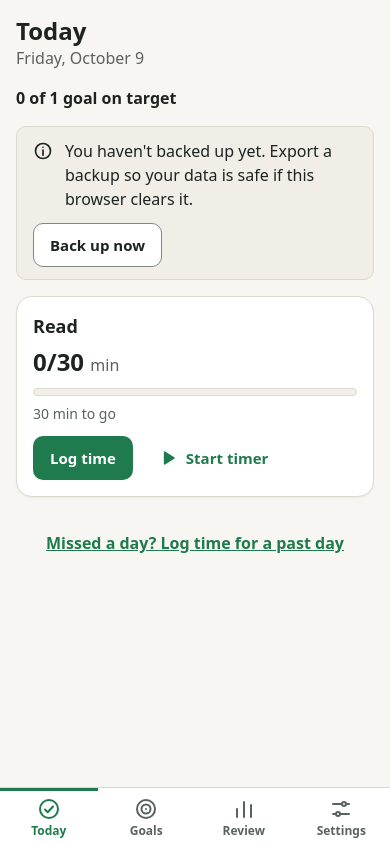
Today — M5-AC13 (entry order, pendingTimer), M3-D4, M5-AC6 › M3-D4: a service-level TIMER_NOT_RUNNING (fake) closes the dialog too; field errors keep it open
Click the button "Start timer".
click(213, 458)  # box [141,436,285,480]
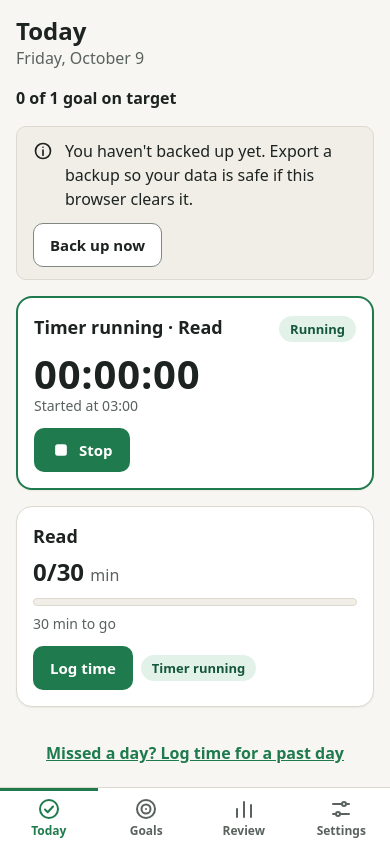
Result: the element with test id "timer-card" is shown at [16,296,374,490]
Click the button with aria-label "Stop timer for Read".
click(82, 450)  # box [34,428,130,472]
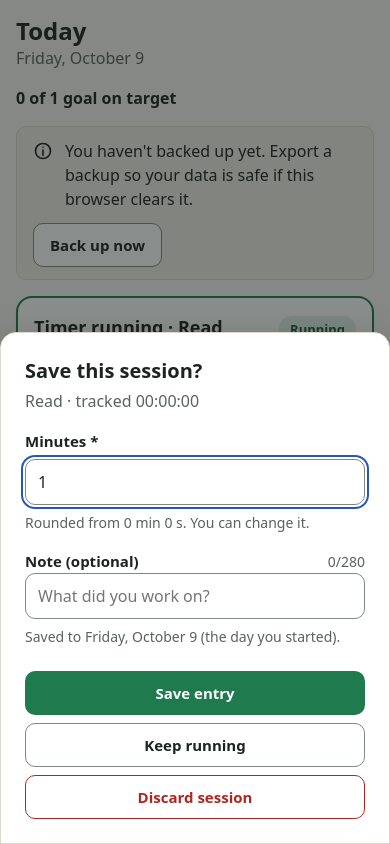
Replace the text in the field labelled "Minutes *" with "0" at (195, 482), box [25,459,365,505]
Click the button "Save entry".
click(195, 693)  # box [25,671,365,715]
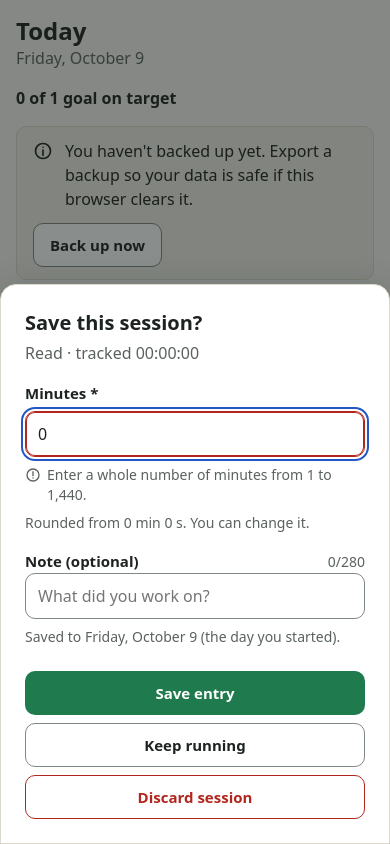
Result: the text "Enter a whole number of minutes from 1 to 1,440." is shown at [47,465,365,505]
Replace the text in the field labelled "Minutes *" with "10" at (195, 434), box [25,411,365,457]
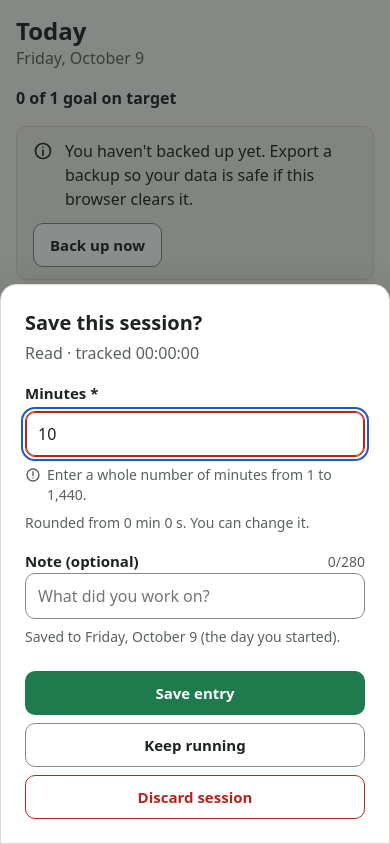
Click the button "Save entry".
click(195, 693)  # box [25,671,365,715]
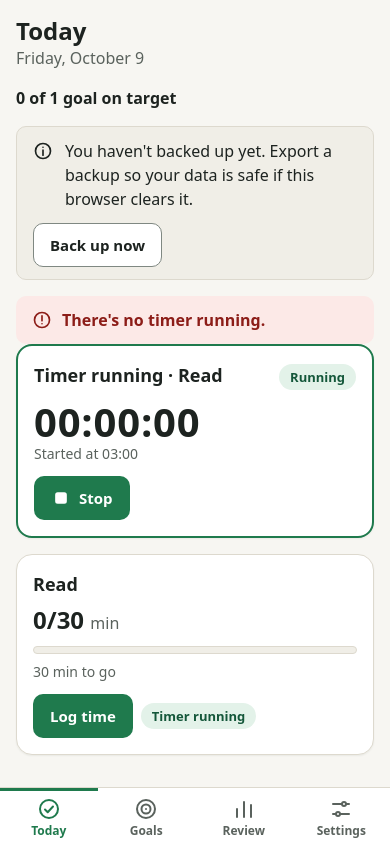
Result: the dialog with test id "stop-dialog" is gone
Result: the message reads "There's no timer running." at [62,309,265,331]
// The alert goes away with the next timer action (the fake save left the timer running: Stop again).
Click the button with aria-label "Stop timer for Read".
click(82, 498)  # box [34,476,130,520]
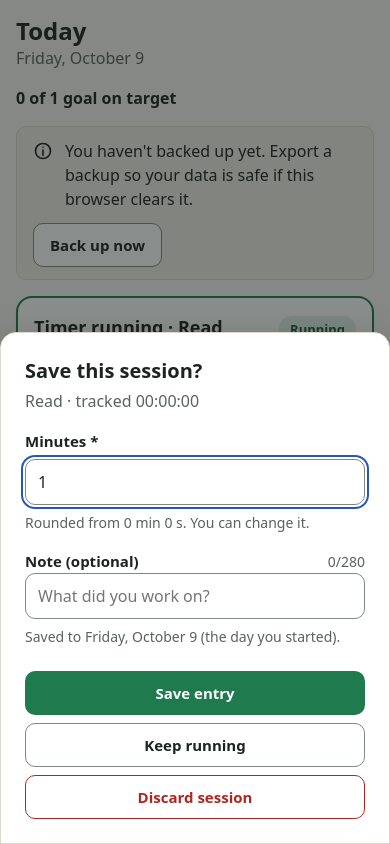
Expected: the element "Read" is shown, [16,506,374,707]
Result: the message "There's no timer running." is gone
Result: the dialog with test id "stop-dialog" is shown
